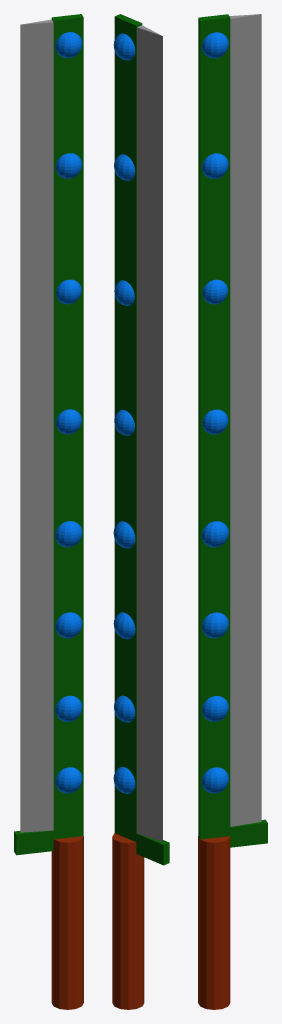
Rendered from BetterSword.fbx.
3 views of the same model, side by side, from view 1: azimuth 90°, elevation 25°; view 2: azimuth 210°, elevation 25°; view 3: azimuth 270°, elevation 25° (orthographic).
Parts seen in each view (by area): view 1: Sword; view 2: Sword; view 3: Sword.
Boxes of the visible parts, bbox=[...] form: Sword: bbox=[14, 14, 83, 1009]; Sword: bbox=[112, 14, 169, 1009]; Sword: bbox=[198, 14, 267, 1009].
Size of the model in its own units: 212 by 6760 by 433.
